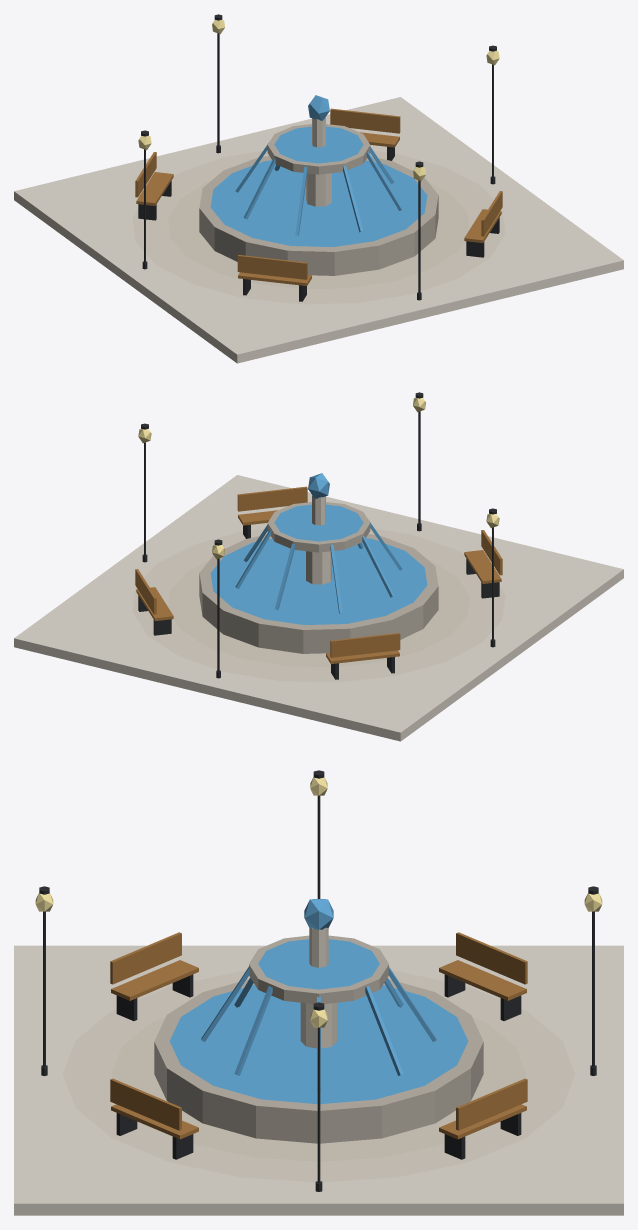
File: Meydan_cesme_Hafif.fbx
3 renders of one model, top to bottom at view 1: azimuth 30°, elevation 25°; view 2: azimuth 150°, elevation 25°; view 3: azimuth 270°, elevation 25°, orthographic. The views are drawn at different scales.
Visible parts, largest first — view 1: Meydan_cesme_Hafif; view 2: Meydan_cesme_Hafif; view 3: Meydan_cesme_Hafif.
Boxes of the visible parts, x1,y1,x2,y2 form: Meydan_cesme_Hafif: [14, 14, 623, 363]; Meydan_cesme_Hafif: [14, 392, 623, 741]; Meydan_cesme_Hafif: [14, 770, 623, 1215].
Bounding box in the file's own units: 10 × 3.58 × 10.
